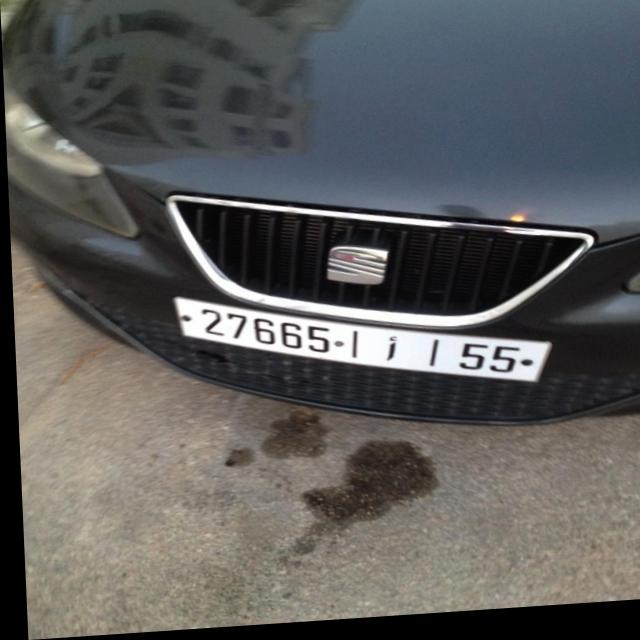License-Plate: (171, 300, 548, 389)
